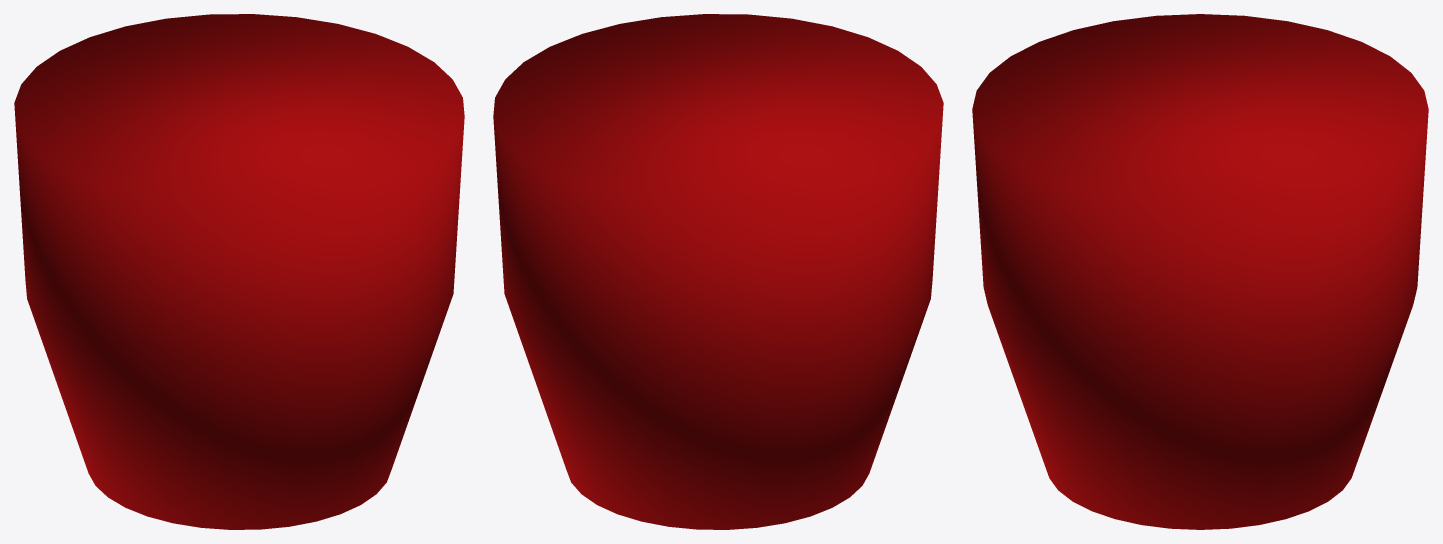
Rendered from bar_blender_filling_01.obj.
The picture shows the model from 3 angles, left to right: view 1: azimuth 30°, elevation 25°; view 2: azimuth 150°, elevation 25°; view 3: azimuth 270°, elevation 25°; orthographic projection.
Visible parts, largest first — view 1: bar_blender_filling; view 2: bar_blender_filling; view 3: bar_blender_filling.
Part boxes in pixels (x1,y1,x2,y2): bar_blender_filling: [14, 14, 464, 529]; bar_blender_filling: [493, 14, 943, 529]; bar_blender_filling: [972, 14, 1428, 529].
Size of the model in its own units: 0.2071 by 0.1807 by 0.2097.
